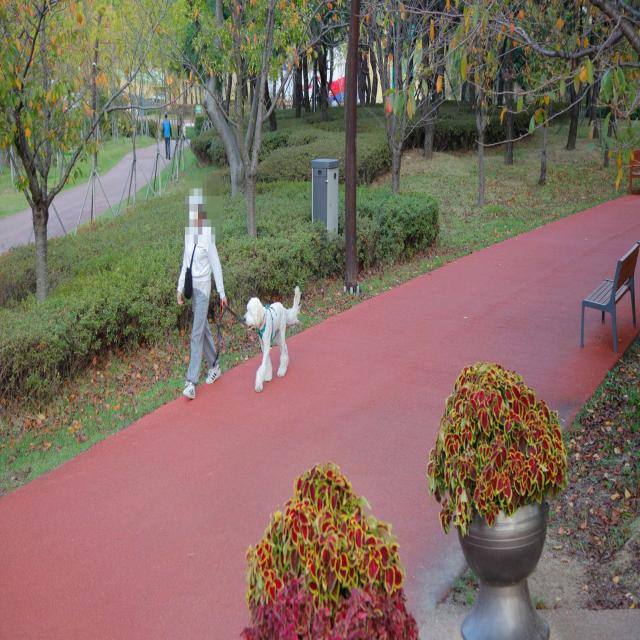Leashed_Dog: (193, 287, 302, 393)
